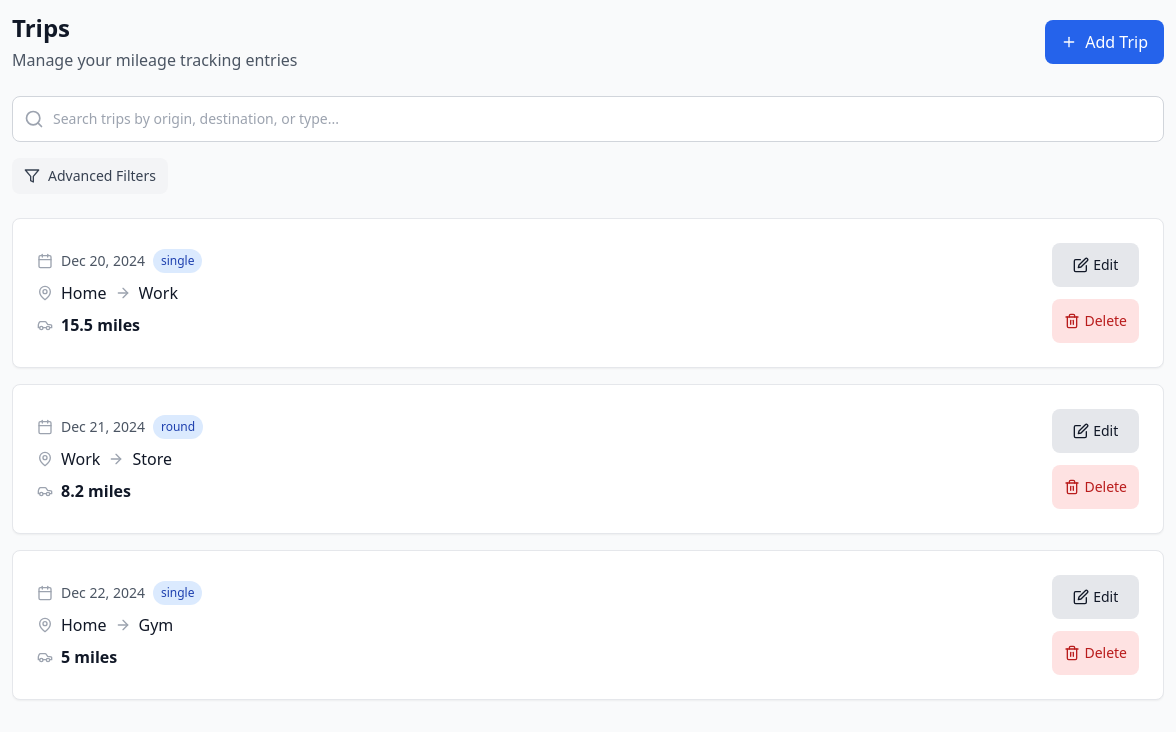
Test: Trips › Search and Filtering › filters trips by search term
Expected: the text "Home" below "Dec 20, 2024" is shown, [61,282,106,304]
Expected: the text "Work" below "Dec 20, 2024" is shown, [138,282,178,304]
Step 1. Type "home" into the field with placeholder "Search trips by origin, destination, or type..." → (588, 119), box [12,96,1164,142]
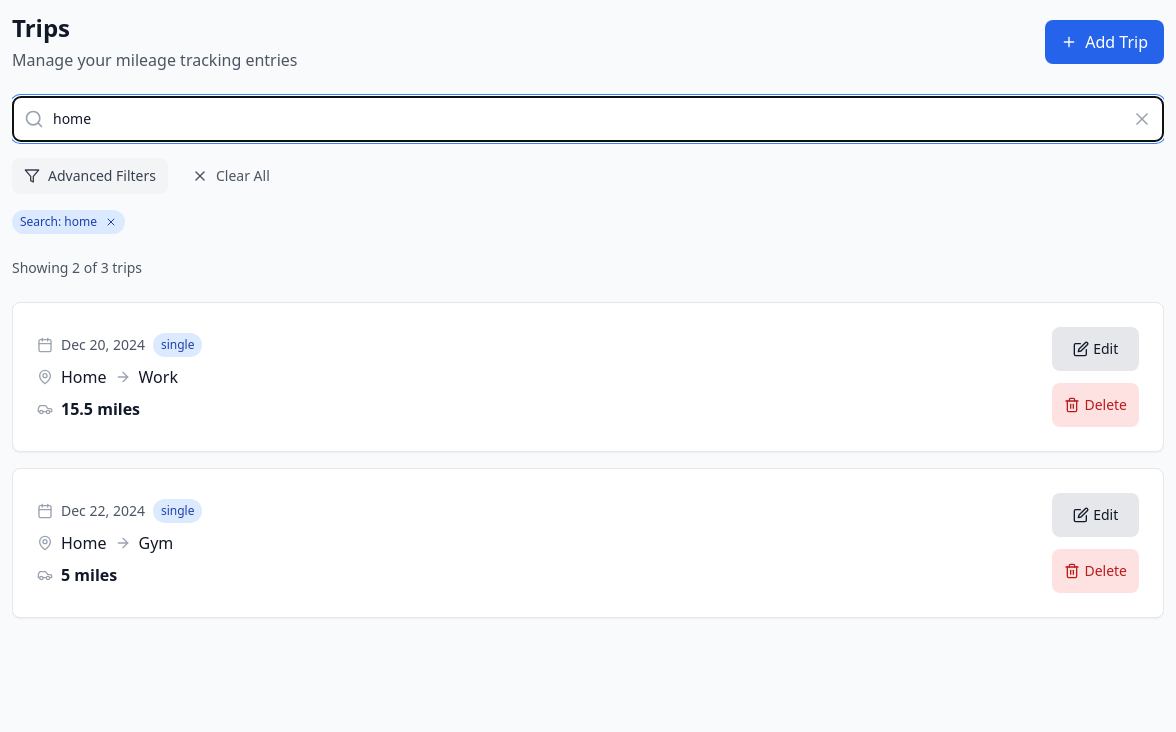
Now the text "Showing 2 of 3 trips" is shown, box [12,258,142,278]
Now the text "Gym" is shown, box [138,531,173,555]
Now the text "Store" is gone
